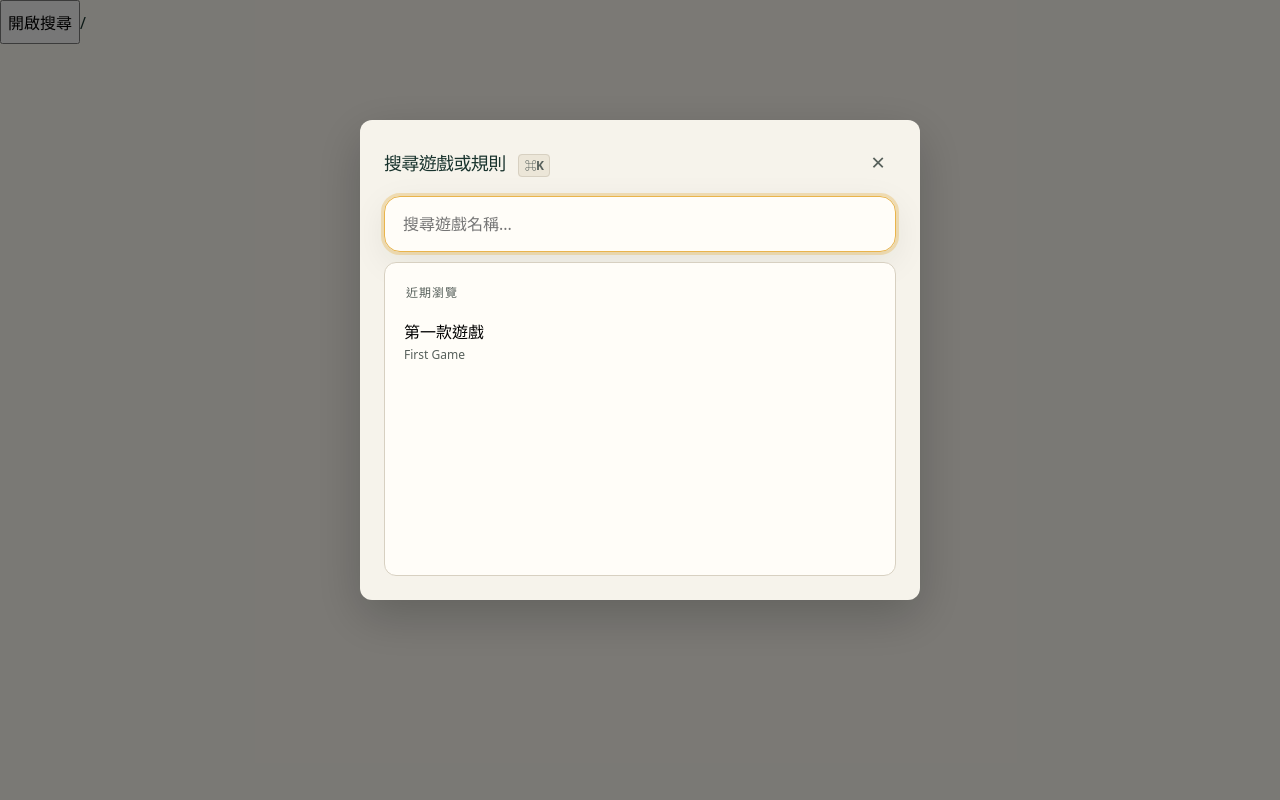
it: SearchModal recent games and inline search › resets inline scrolling when switching between recents and search
Expected: the button "第一款遊戲 First Game" is shown, x1=392 y1=307 x2=873 y2=375
Expected: the element with class "search-results-inline" is shown, x1=384 y1=262 x2=896 y2=576
Type "甲" into the dropdown at (640,224), box x1=385 y1=197 x2=895 y2=251
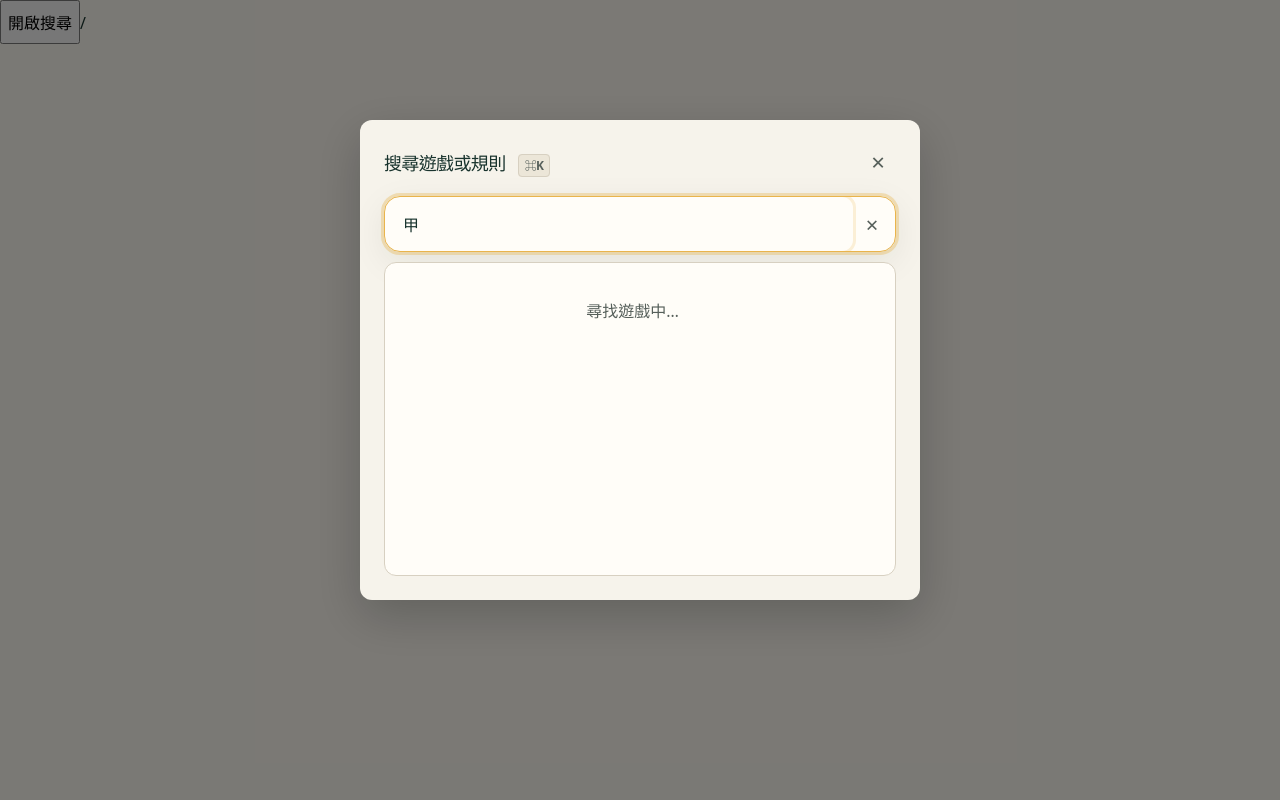
Click the button named "清除搜尋" at (872,224), box x1=853 y1=205 x2=891 y2=243
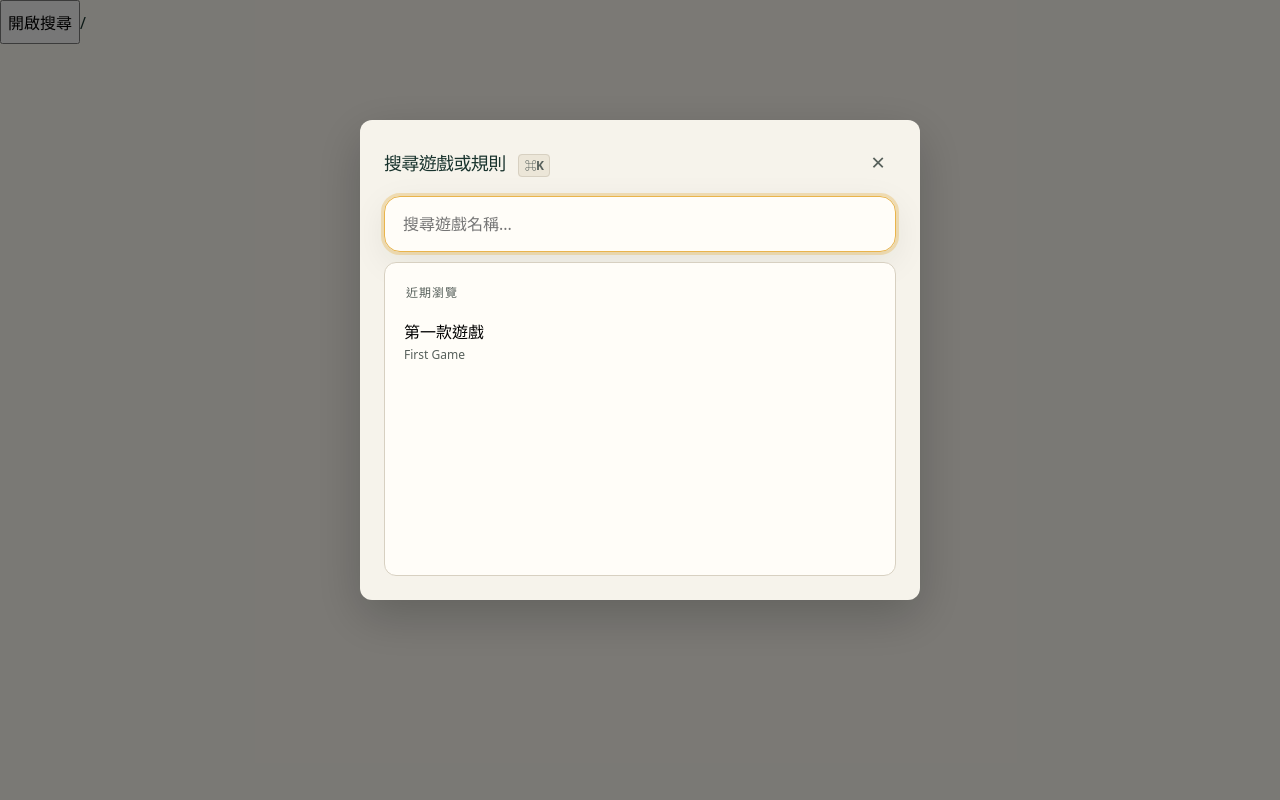
Expected: the dropdown is collapsed, x1=385 y1=197 x2=895 y2=251
